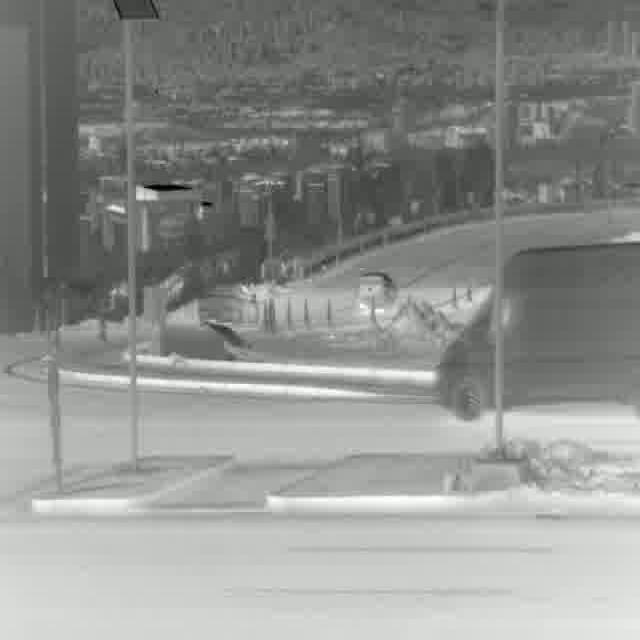Car: (432, 241, 640, 419), (359, 271, 393, 313)
